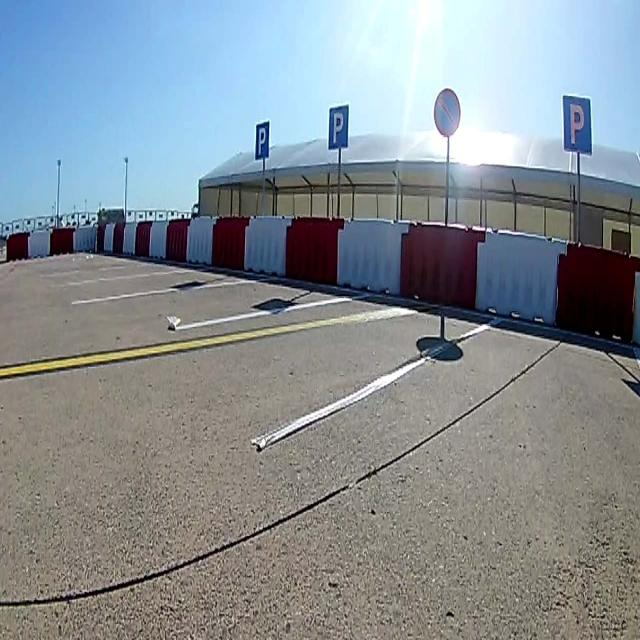park: (562, 94, 592, 153), (328, 106, 348, 146), (256, 121, 269, 159)
parkyasak: (435, 90, 461, 136)
